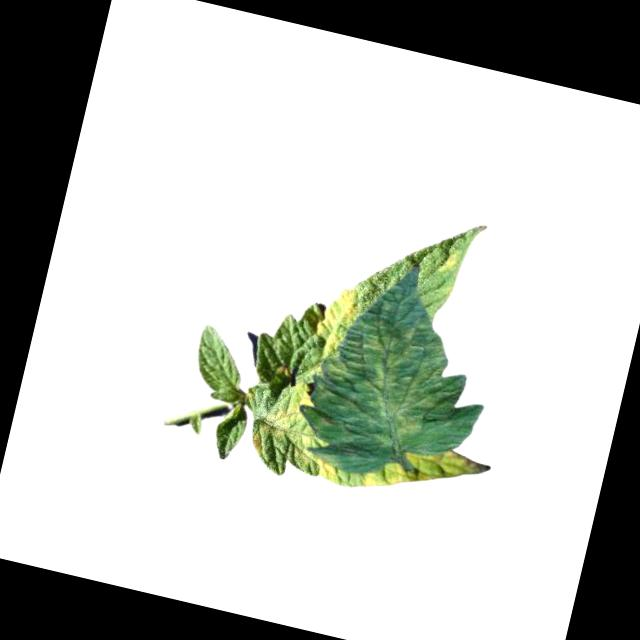Leaf_Mold: (330, 307, 452, 441), (360, 430, 494, 515), (308, 280, 359, 357), (260, 376, 317, 433), (311, 455, 343, 483)
